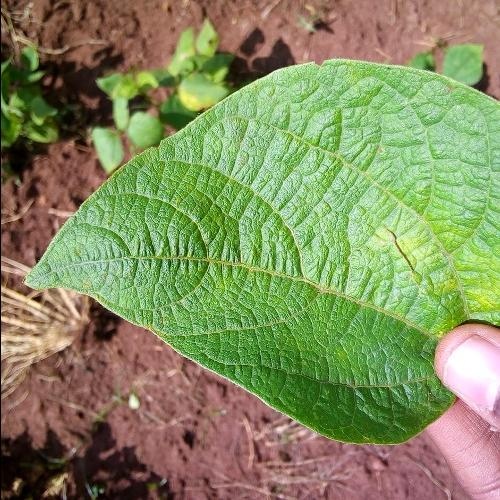mozaik: (374, 129, 500, 310), (156, 278, 256, 324)
sehat: (154, 140, 349, 244)
